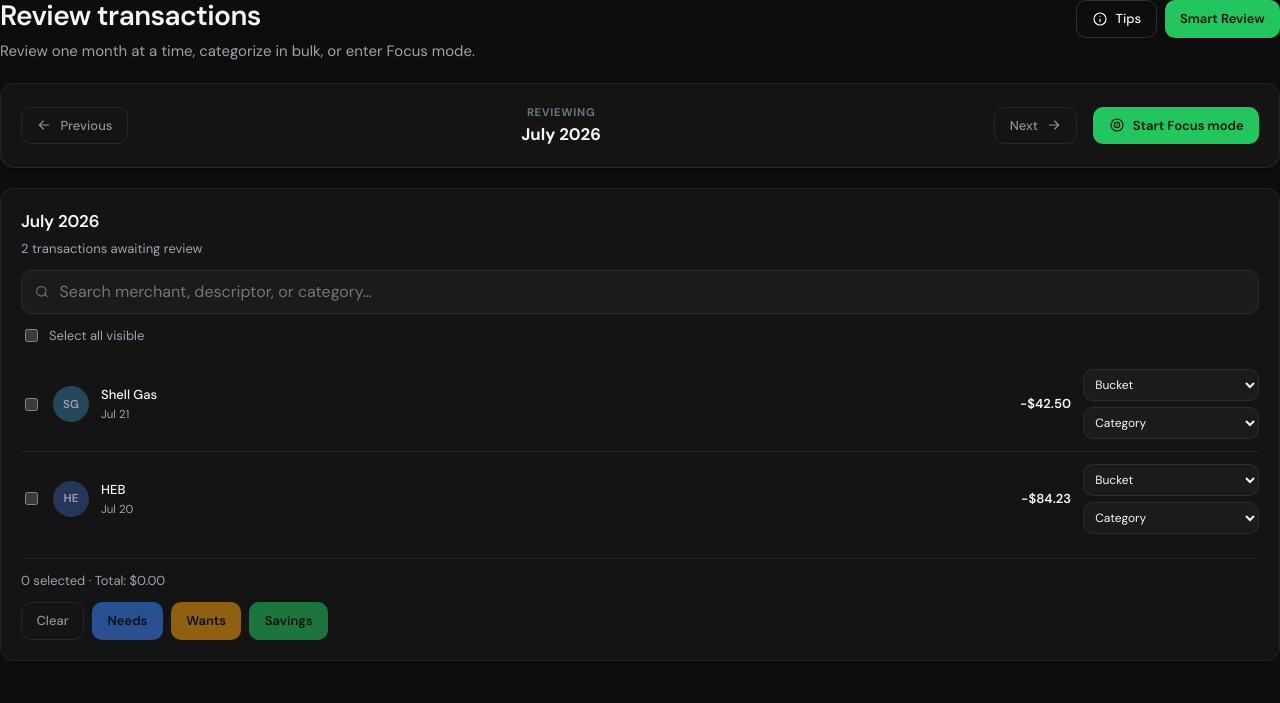
TransactionReviewView › bulk categorizes selected transactions, preserves failures, and supports undo
What coordinates should you click on to do the following:
click the checkbox in the row of "-$42.50"
I would click on:
 (32, 404)
Its box is [25,398,38,411].
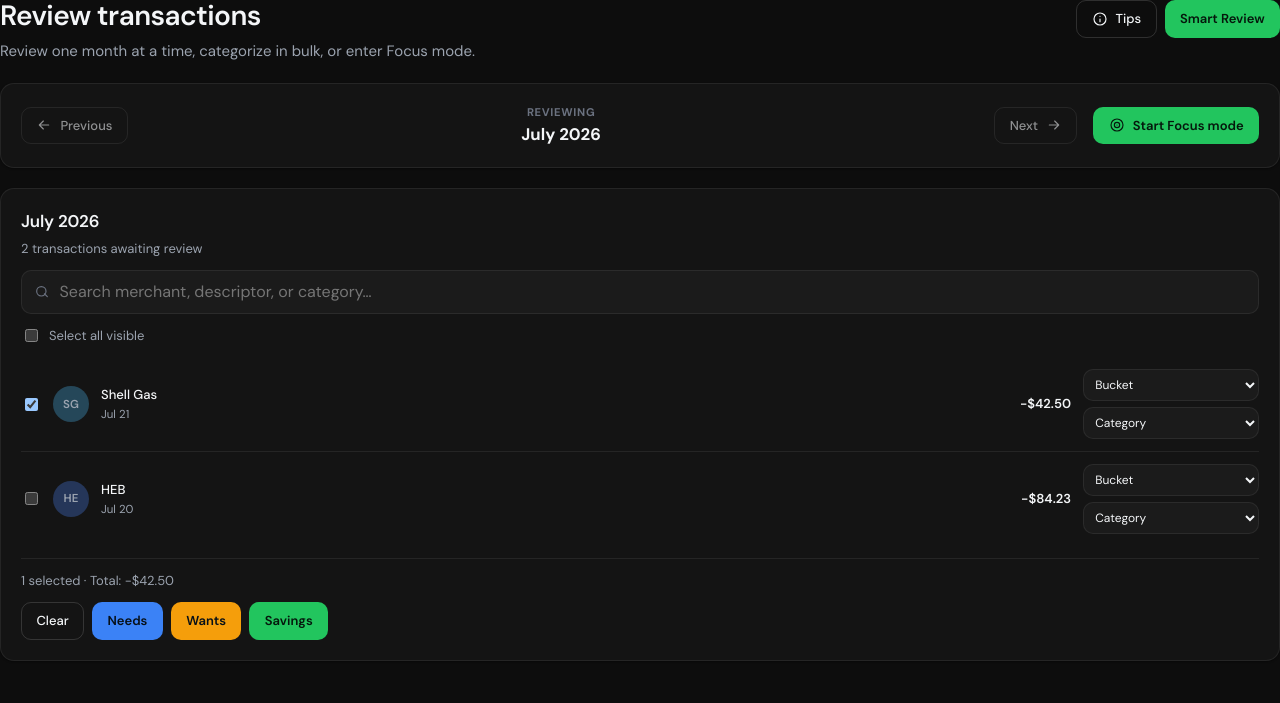
What coordinates should you click on to do the following:
click the checkbox in the row of "-$84.23"
I would click on:
 (32, 499)
Its box is [25,492,38,505].
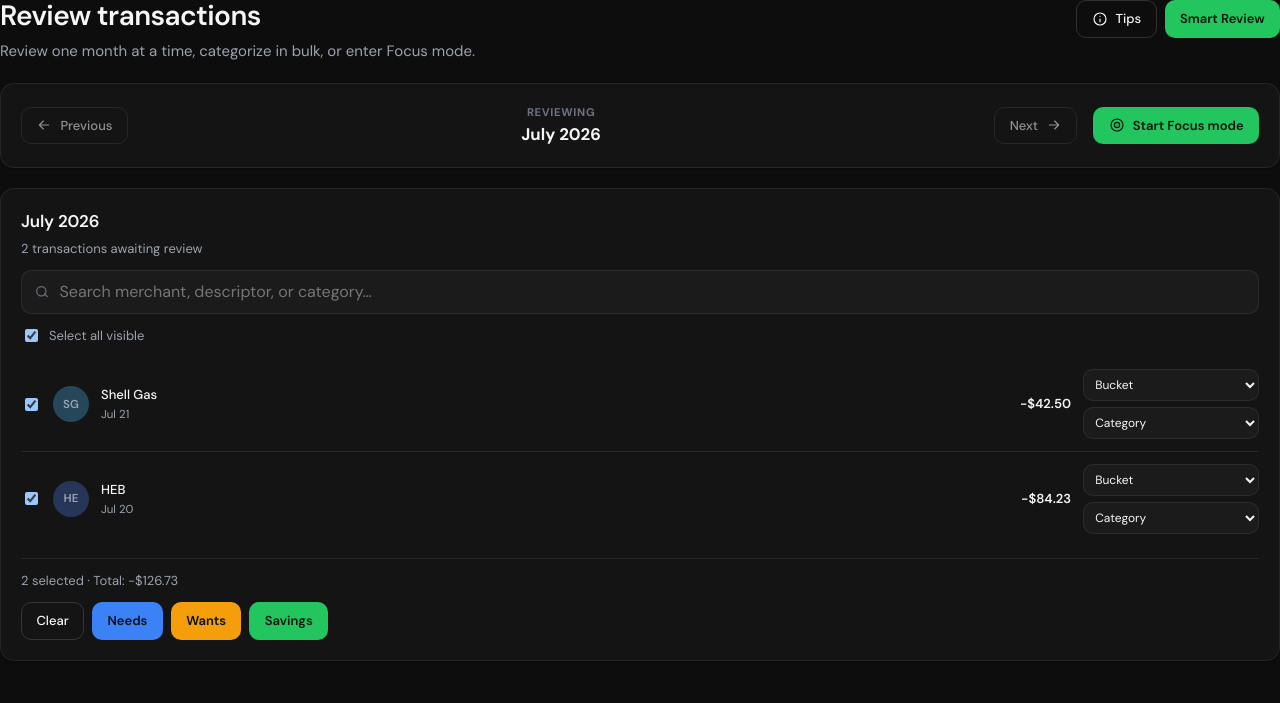
What coordinates should you click on to do the following:
click the button "Needs"
I would click on:
 (127, 621)
Its box is [92,602,163,640].
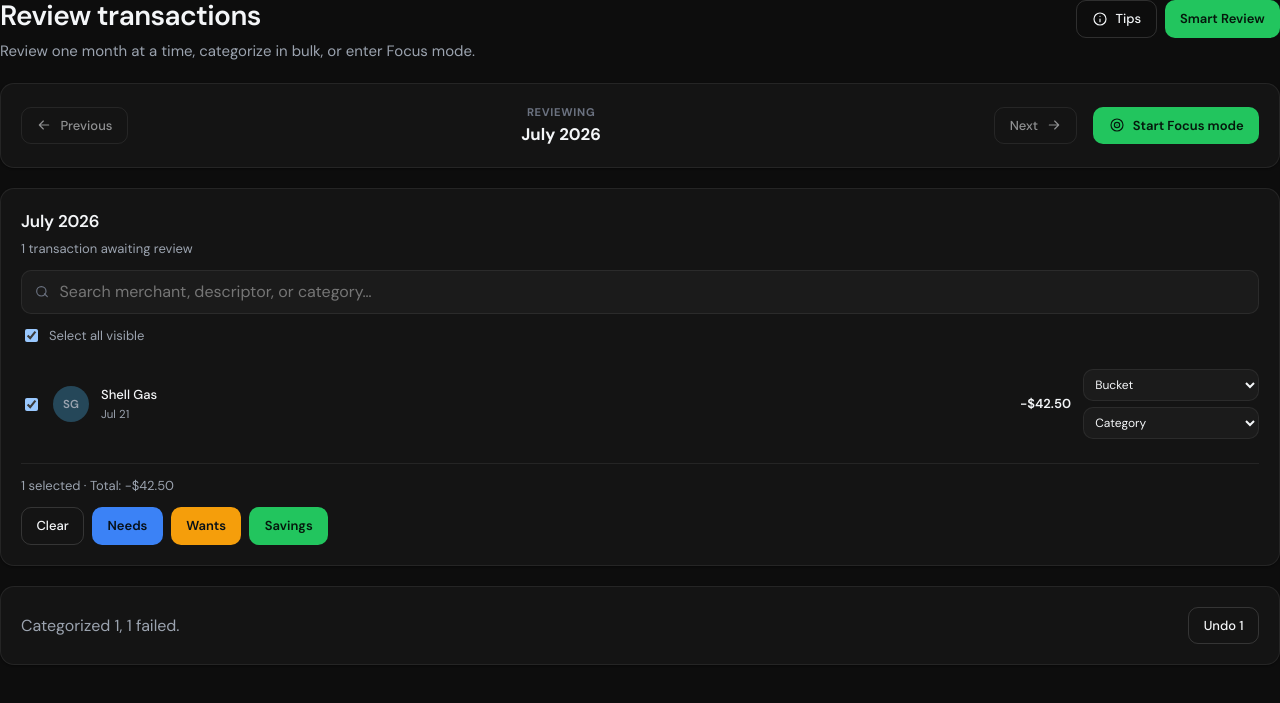
Expected: the text "Categorized 1, 1 failed" is shown, [21,615,180,636]
Expected: the text "HEB" is gone
Expected: the text "1 selected" is shown, [21,477,125,494]
What coordinates should you click on to do the following:
click the button "Undo 1"
I would click on:
 (1224, 626)
Its box is [1188,607,1259,644].
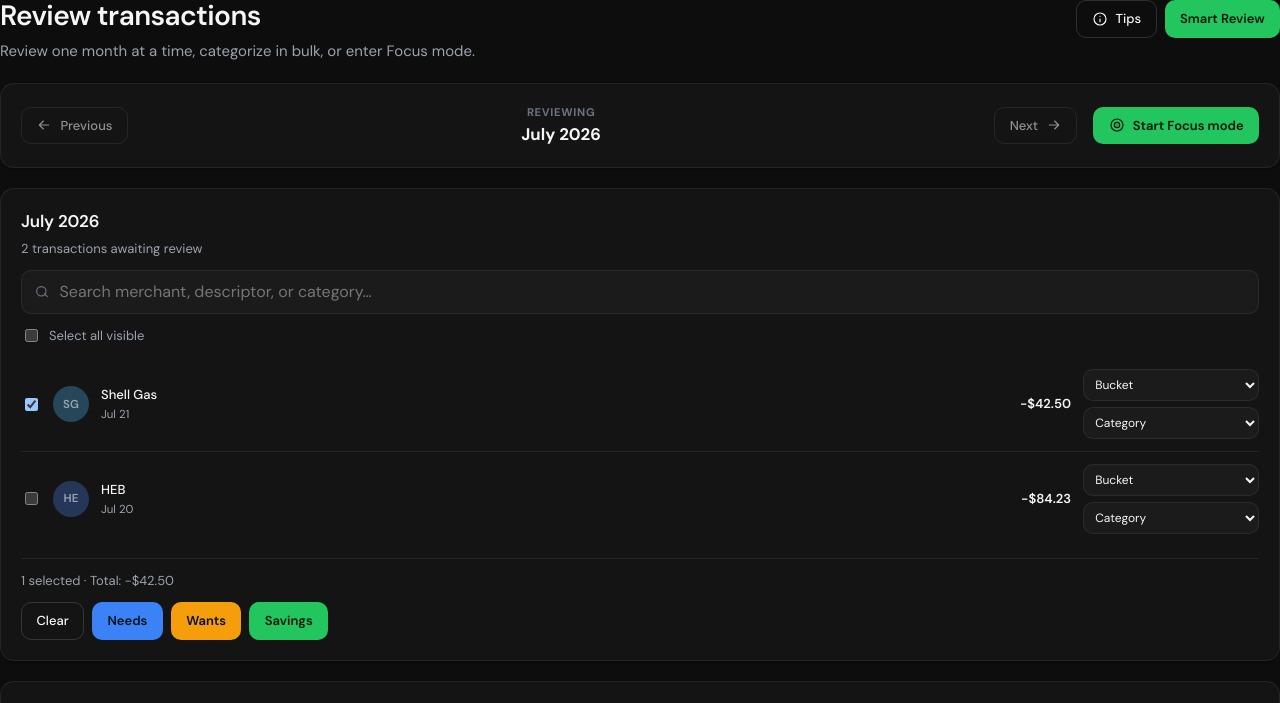
Expected: the text "HEB" is shown, [101,481,125,498]
